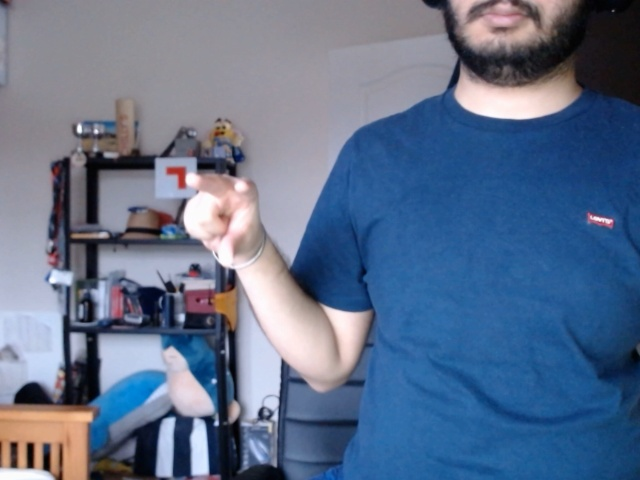No: (179, 159, 271, 279)
